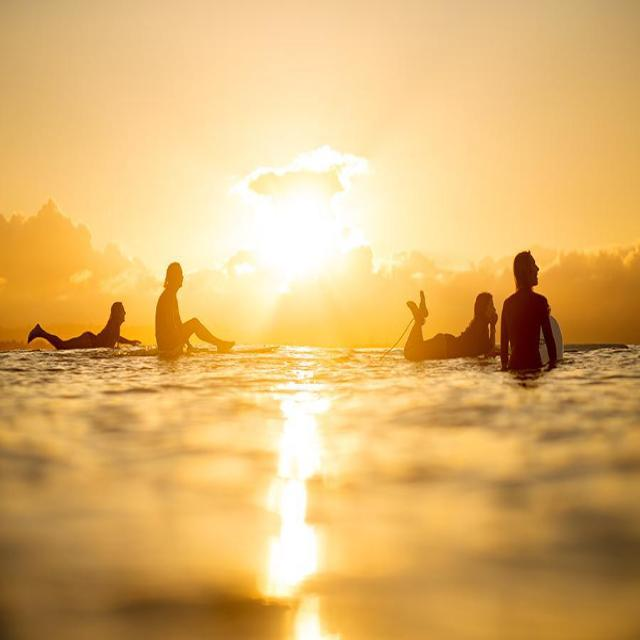other: (211, 136, 369, 326), (258, 348, 339, 607)
